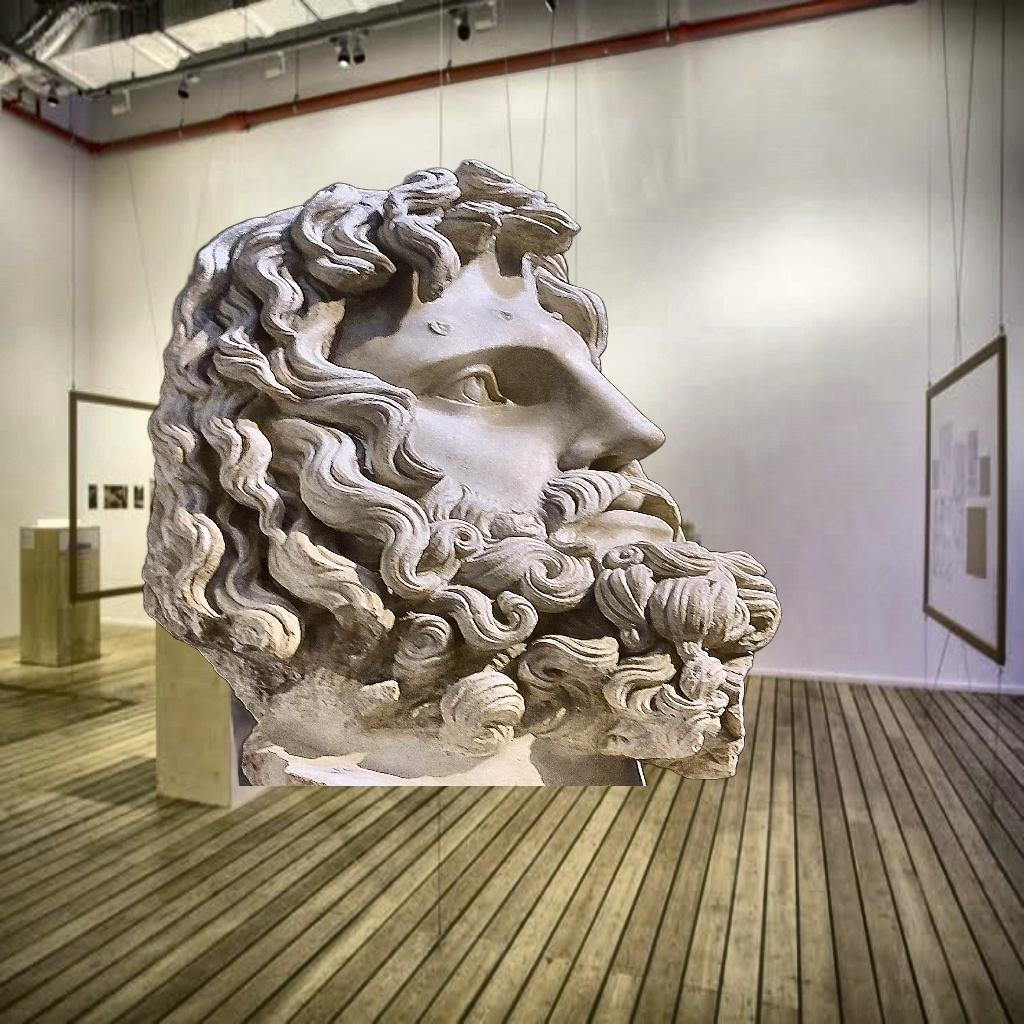Clossal Head of the god Serapis: (138, 155, 786, 786)
